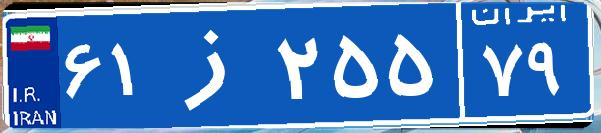1: (110, 28, 158, 105)
2: (273, 28, 330, 110)
5: (385, 28, 445, 110), (330, 28, 385, 110)
6: (57, 26, 110, 107)
7: (475, 38, 525, 113)
9: (525, 38, 570, 115)
ز: (158, 15, 273, 115)
